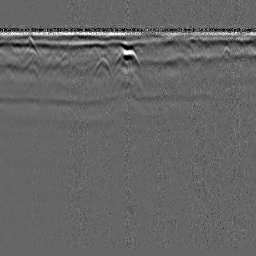cavity: (113, 46, 141, 68)
